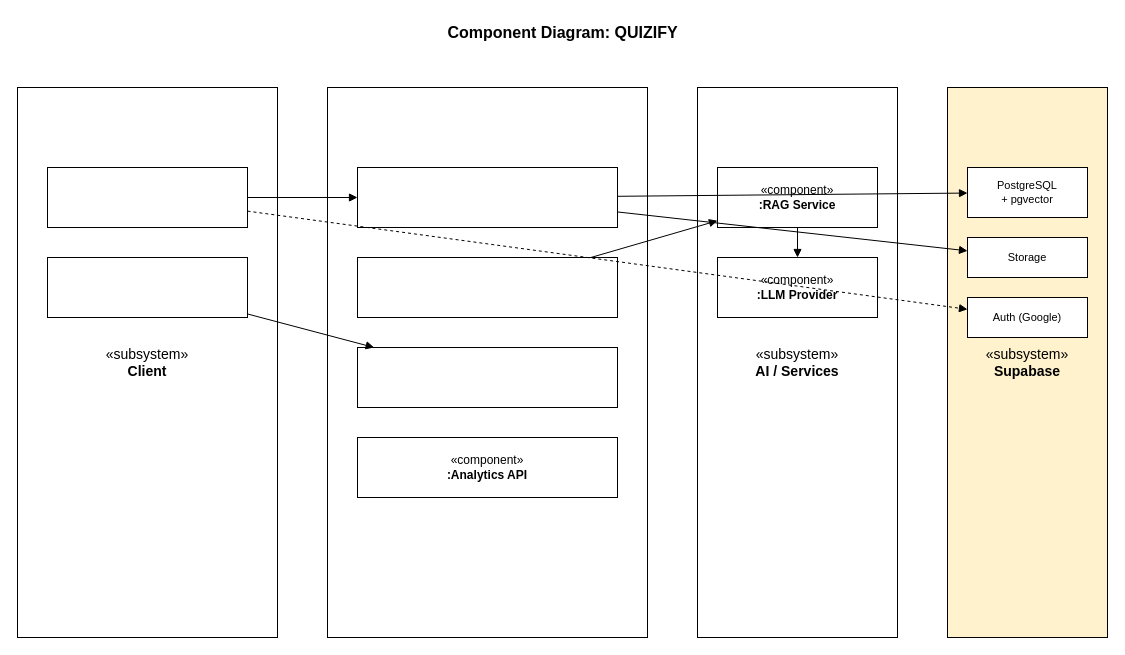
This 1125x655 diagram has some shape labels left out. Here are the shapes that lost their labels. From the top down, the centre of each, then its label:
At [147,197]: "«component» :Lecturer/Admin Web UI".
At [487,197]: "«component» :Materials API".
At [147,287]: "«component» :Student Public UI".
At [487,287]: "«component» :Courses API".
At [487,377]: "«component» :Public API".
